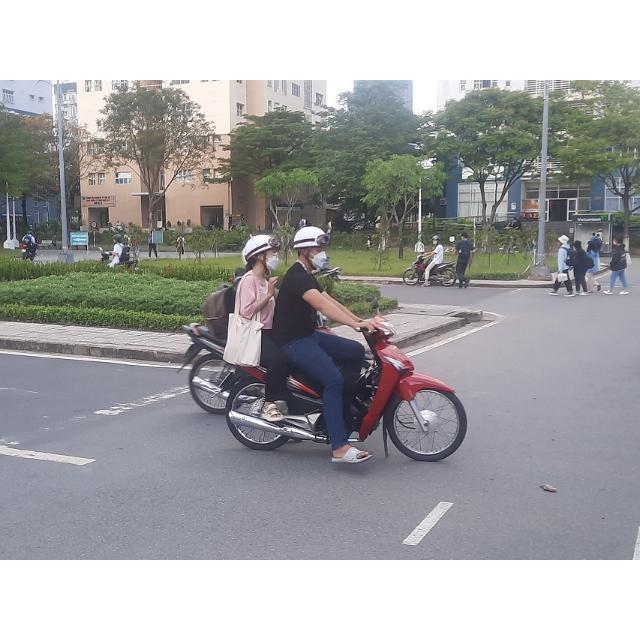Helmet: (294, 227, 330, 271), (246, 236, 280, 272)
